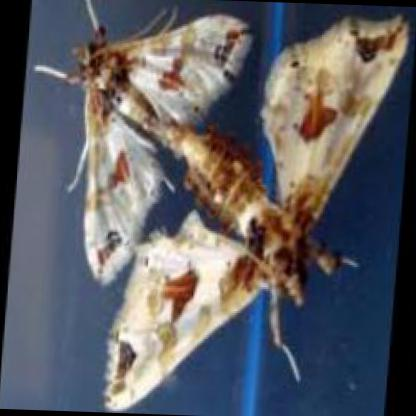leucinodes: (104, 19, 408, 411)
